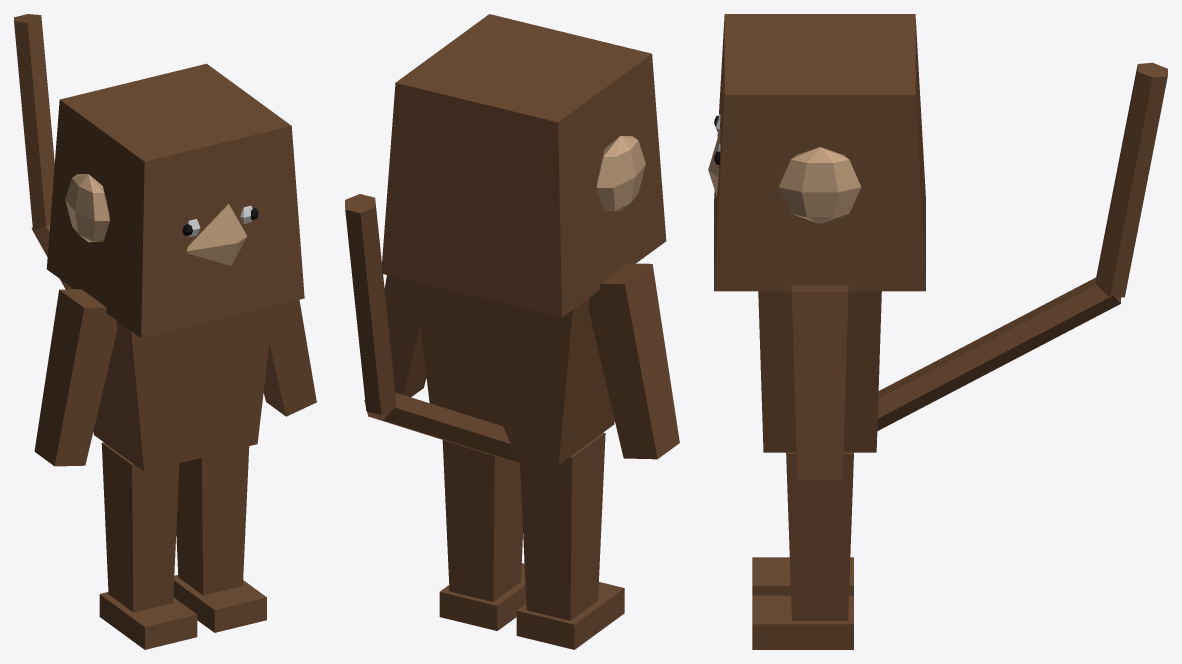
File: monkey.glb
3 views of the same model, side by side, from view 1: azimuth 30°, elevation 25°; view 2: azimuth 150°, elevation 25°; view 3: azimuth 270°, elevation 25° (orthographic). The views are drawn at different scales.
Parts seen in each view (by area): view 1: monkey; view 2: monkey; view 3: monkey.
Boxes of the visible parts, bbox=[...] form: monkey: bbox=[14, 14, 316, 649]; monkey: bbox=[345, 14, 679, 649]; monkey: bbox=[708, 14, 1167, 649].
Size of the model in its own units: 0.4812 by 0.877 by 0.65.
